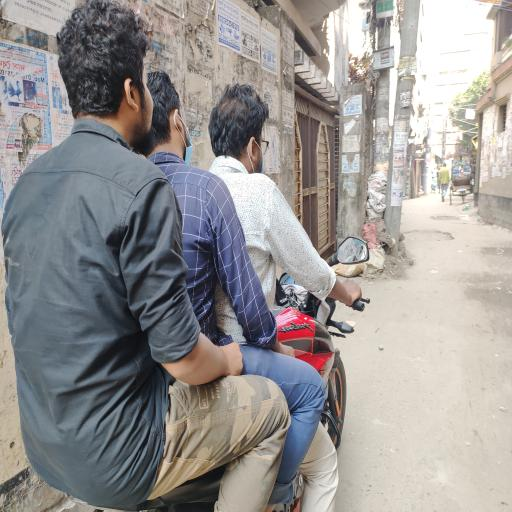overloading: (3, 2, 369, 509)
